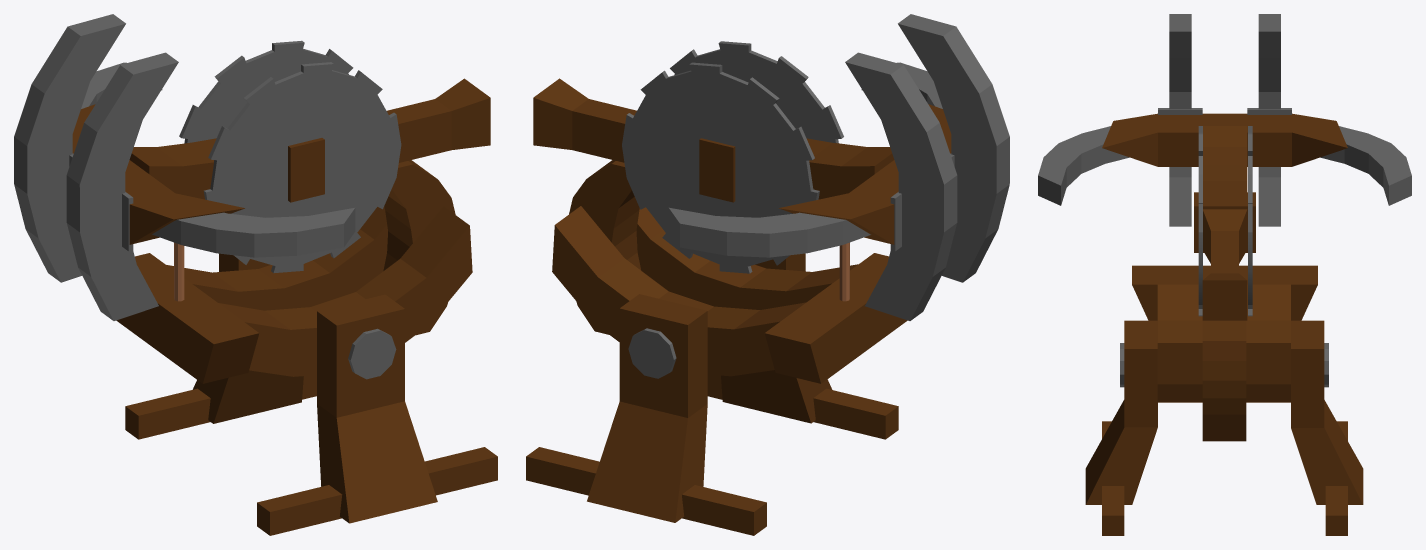
Rendered from Ballista_RapidFire.fbx.
The picture shows the model from 3 angles, left to right: view 1: azimuth 30°, elevation 25°; view 2: azimuth 150°, elevation 25°; view 3: azimuth 270°, elevation 25°; orthographic projection. The views are drawn at different scales.
Visible parts, largest first — view 1: Full, pCylinder6, pCylinder5; view 2: Full, pCylinder5, pCylinder6; view 3: Full, pCylinder5, pCylinder6.
Boxes of the visible parts, x1,y1,x2,y2 form: Full: [14, 14, 497, 535]; pCylinder6: [203, 62, 401, 273]; pCylinder5: [179, 40, 353, 143]; Full: [526, 14, 1009, 535]; pCylinder5: [622, 62, 819, 273]; pCylinder6: [670, 41, 843, 143]; Full: [1038, 14, 1411, 535]; pCylinder5: [1248, 126, 1252, 316]; pCylinder6: [1198, 126, 1202, 316].
Bounding box in the file's own units: 9.45 × 9.59 × 8.37.
